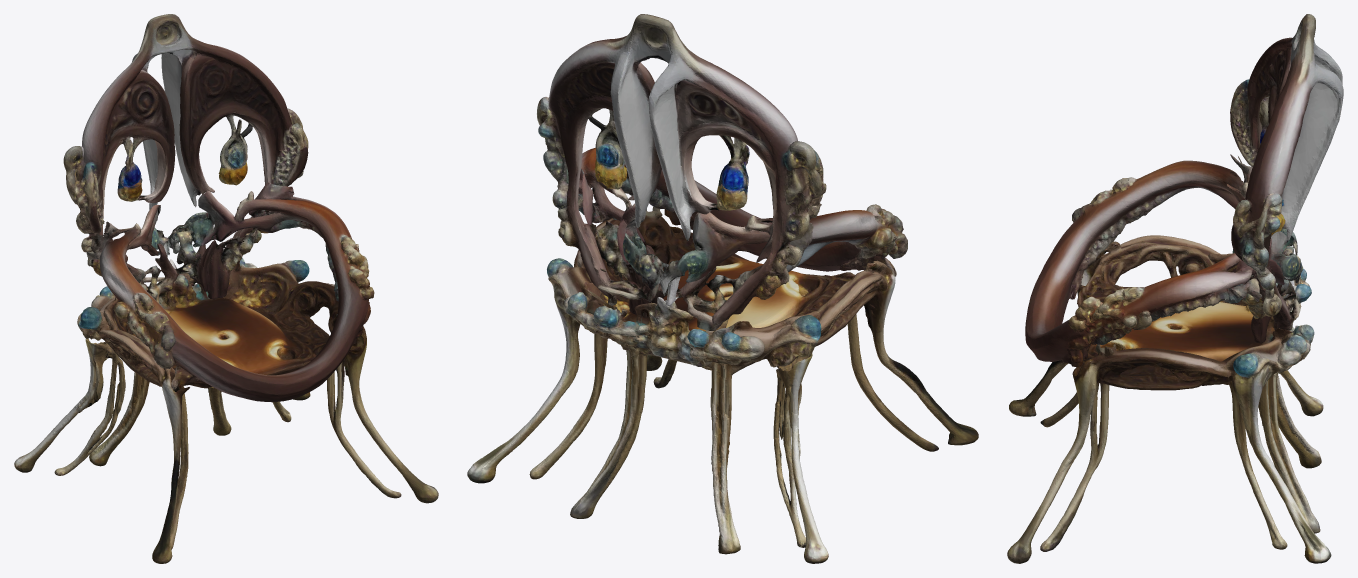
3 renders of one model, left to right at view 1: azimuth 30°, elevation 25°; view 2: azimuth 150°, elevation 25°; view 3: azimuth 270°, elevation 25°, orthographic. The views are drawn at different scales.
Visible parts, largest first — view 1: 3, 0, 2, 1; view 2: 3, 0, 2, 1; view 3: 0, 2, 3, 1.
Part boxes in pixels (x1,y1,x2,y2): 3: [63, 14, 308, 303]; 0: [77, 257, 438, 563]; 2: [86, 182, 374, 402]; 1: [14, 339, 125, 475]; 3: [537, 14, 826, 331]; 0: [467, 206, 978, 554]; 2: [578, 148, 907, 295]; 1: [773, 353, 828, 563]; 0: [1007, 235, 1331, 563]; 2: [1025, 154, 1303, 366]; 3: [1230, 14, 1343, 343]; 1: [1280, 370, 1323, 416].
Size of the model in its own units: 0.7126 by 0.9935 by 0.6297.
Materials: 4 (4 with a texture image).
